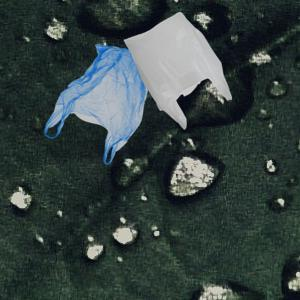plastic_bag: (39, 43, 158, 169), (125, 12, 237, 133)
